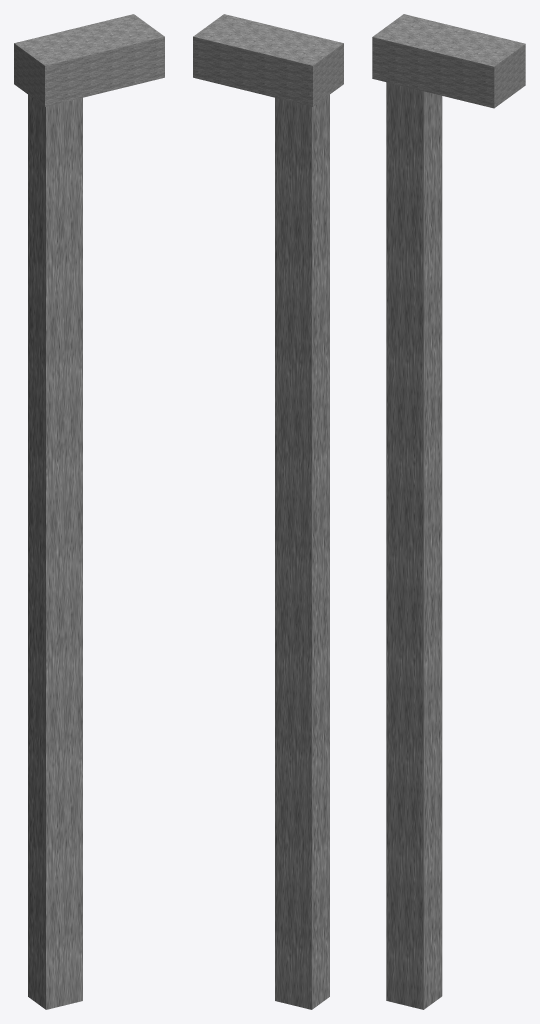
The model's file is Lightpost.glb.
3 views of the same model, side by side, from view 1: azimuth 30°, elevation 25°; view 2: azimuth 150°, elevation 25°; view 3: azimuth 330°, elevation 25° (orthographic).
Visible parts, largest first — view 1: Cube; view 2: Cube; view 3: Cube.
Boxes of the visible parts, x1,y1,x2,y2 form: Cube: (14, 14, 164, 1009); Cube: (193, 14, 343, 1009); Cube: (372, 14, 525, 1009).
Bounding box in the file's own units: 1.13 × 8.53 × 0.5033.
Materials: 1 (1 with a texture image).
